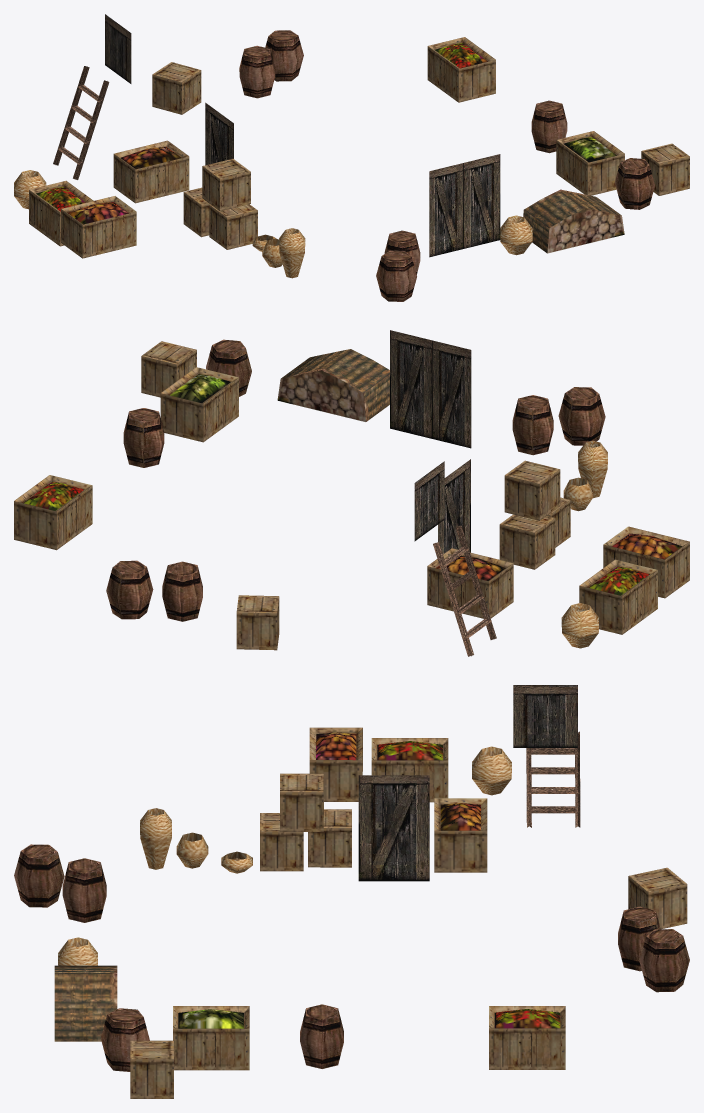
File: celt_market_props.dae
3 views of the same model, one above another, from view 1: azimuth 30°, elevation 25°; view 2: azimuth 150°, elevation 25°; view 3: azimuth 270°, elevation 25° (orthographic). The views are drawn at different scales.
Parts seen in each view (by area): view 1: default07; view 2: default07; view 3: default07.
Boxes of the visible parts, <box> form: default07: <box>14,14,689,301</box>; default07: <box>14,330,689,656</box>; default07: <box>14,685,689,1098</box>.
Size of the model in its own units: 26.04 by 23.19 by 6.52.
